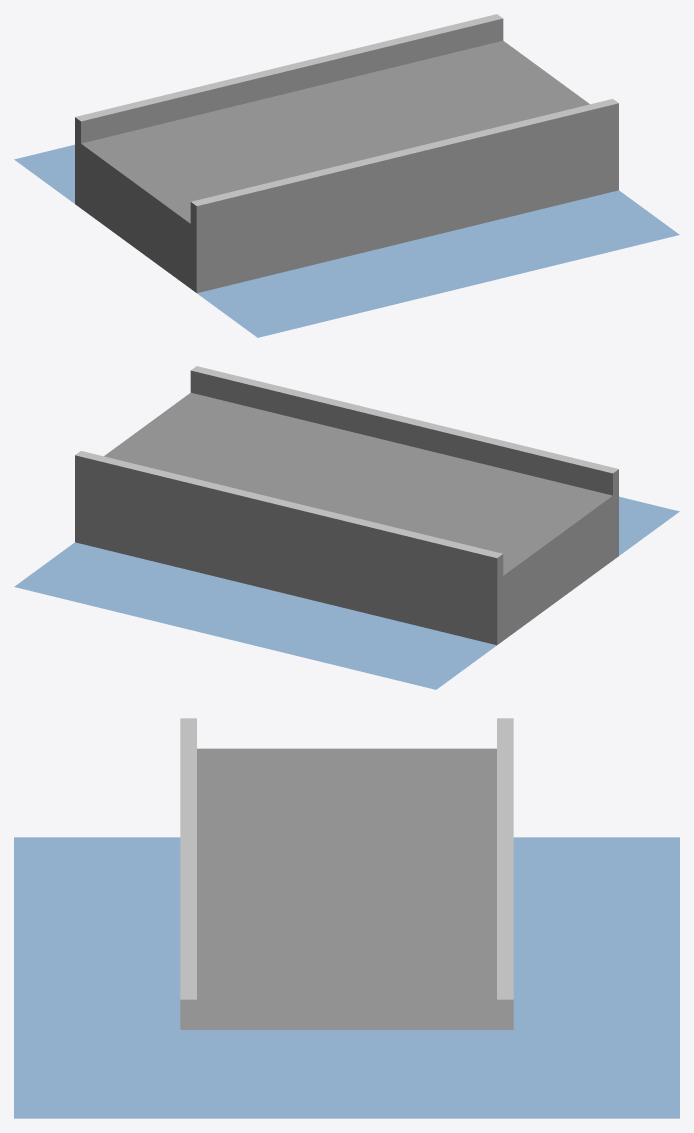
File: port_tile_1x1_003.glb
3 views of the same model, one above another, from view 1: azimuth 30°, elevation 25°; view 2: azimuth 150°, elevation 25°; view 3: azimuth 270°, elevation 25° (orthographic). The views are drawn at different scales.
Parts seen in each view (by area): view 1: port_tile_1x1_003; view 2: port_tile_1x1_003; view 3: port_tile_1x1_003.
Boxes of the visible parts, bbox=[...] form: port_tile_1x1_003: bbox=[14, 14, 679, 337]; port_tile_1x1_003: bbox=[14, 366, 679, 689]; port_tile_1x1_003: bbox=[14, 718, 679, 1118].
Size of the model in its own units: 8 by 1.58 by 8.
1 material, 1 textured.
